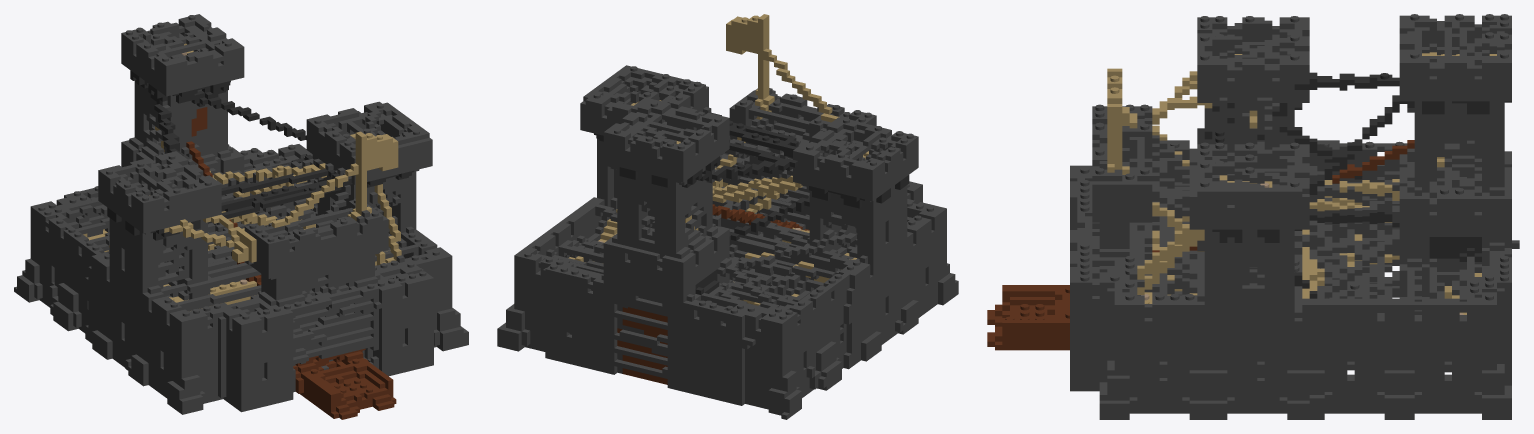
Rendered from castle.glb.
The picture shows the model from 3 angles, left to right: view 1: azimuth 30°, elevation 25°; view 2: azimuth 150°, elevation 25°; view 3: azimuth 270°, elevation 25°; orthographic projection. The views are drawn at different scales.
Visible parts, largest first — view 1: castle; view 2: castle; view 3: castle.
Boxes of the visible parts, x1,y1,x2,y2 form: castle: [14, 14, 468, 419]; castle: [497, 14, 958, 419]; castle: [987, 14, 1519, 419].
Size of the model in its own units: 8.36 by 6.63 by 10.79.
